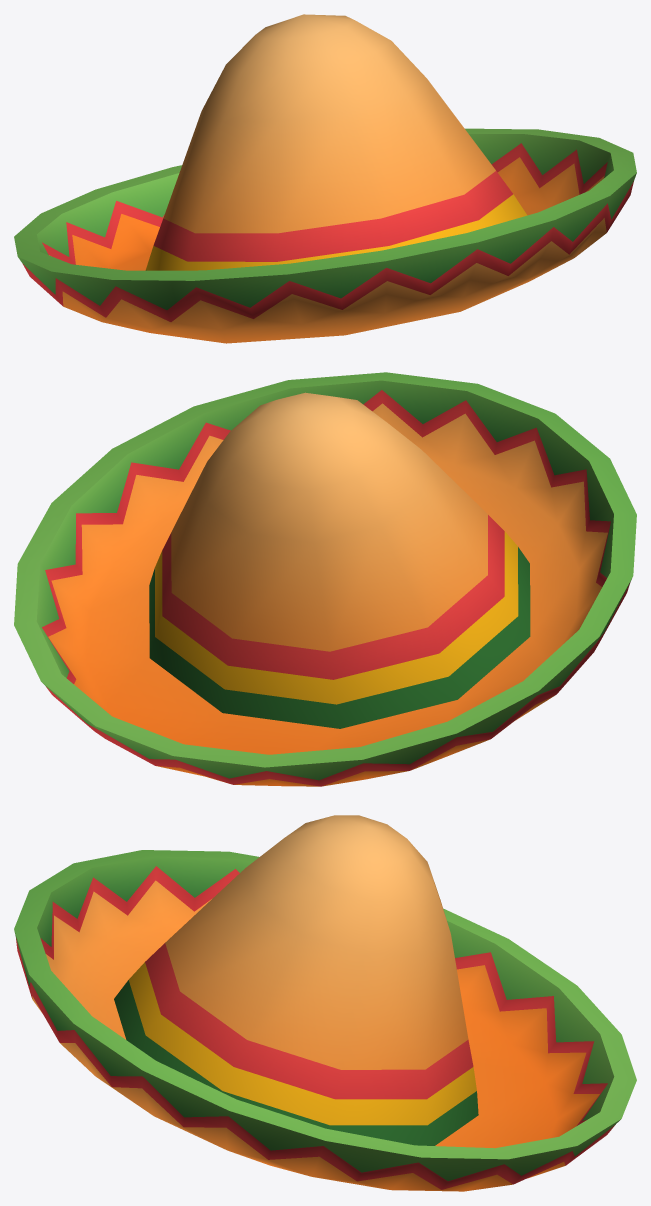
Rendered from Hat_29.glb.
3 views of the same model, one above another, from view 1: azimuth 30°, elevation 25°; view 2: azimuth 150°, elevation 25°; view 3: azimuth 270°, elevation 25° (orthographic).
Parts seen in each view (by area): view 1: Hat_29; view 2: Hat_29; view 3: Hat_29.
Part boxes in pixels (x1,y1,x2,y2): Hat_29: (14, 14, 636, 343); Hat_29: (14, 372, 636, 786); Hat_29: (14, 815, 636, 1191).
Bounding box in the file's own units: 1.03 × 0.5433 × 0.996.
Materials: 1 (1 with a texture image).
